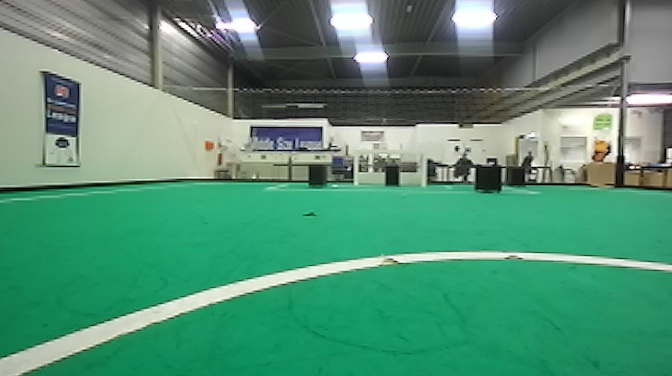goalpost: (351, 151, 361, 188), (418, 149, 428, 186)
